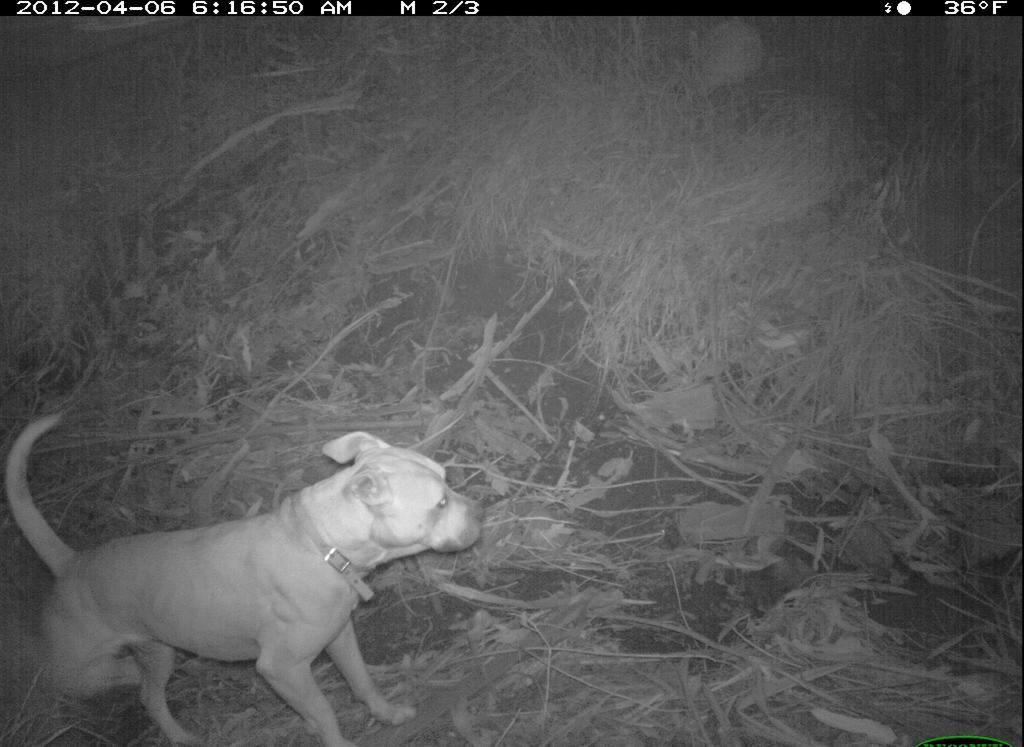dog: (6, 410, 488, 747)
